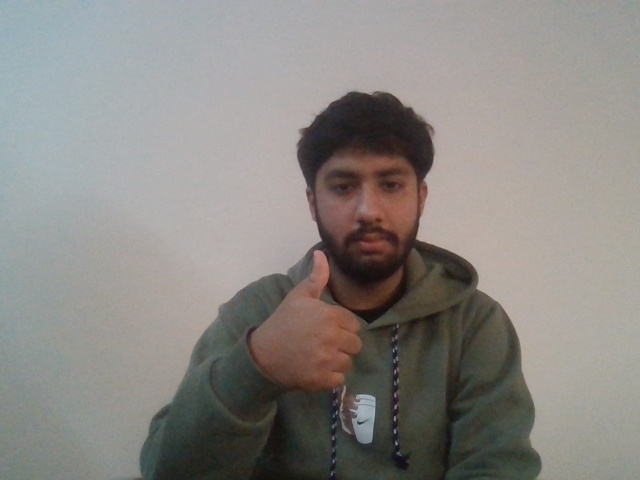Yes: (245, 247, 371, 394)
